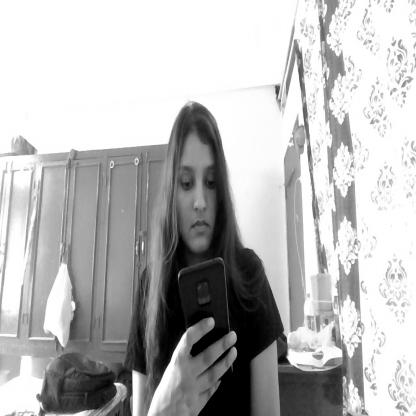Normal: (168, 124, 224, 254)
